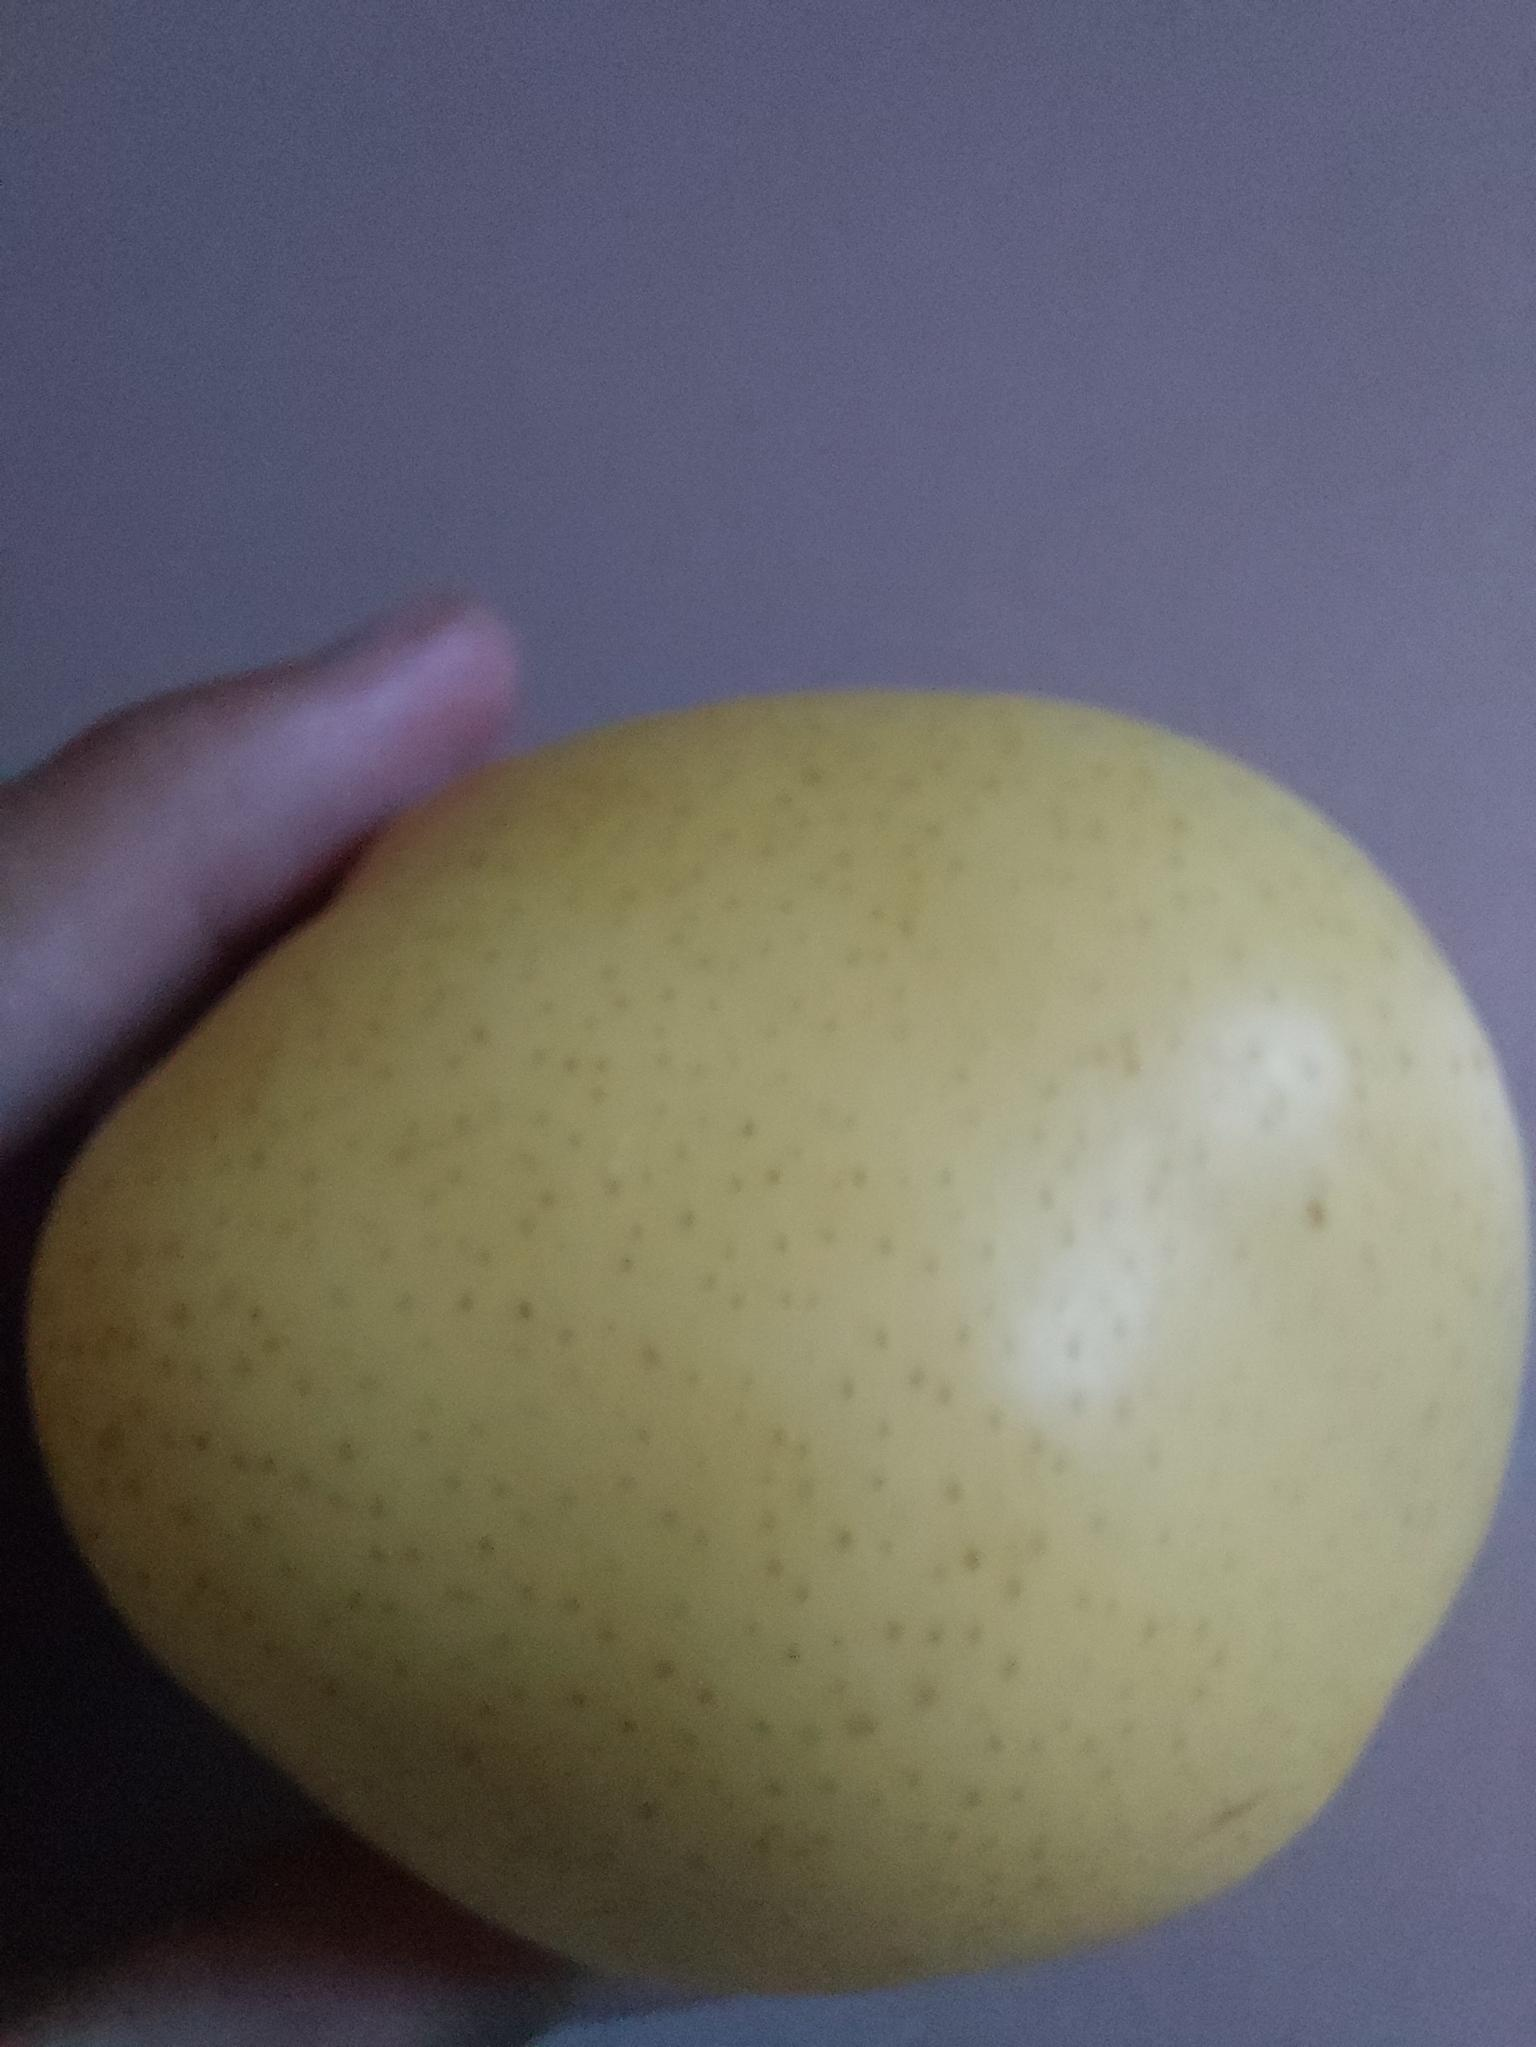Good Pear: (518, 644, 1530, 1981)
